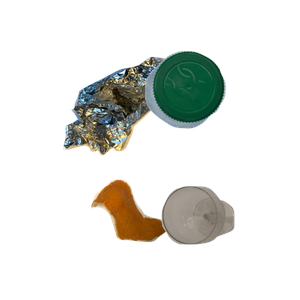glass: (159, 184, 300, 300)
metal: (61, 54, 225, 202)
plastic: (142, 48, 300, 169)
trash: (88, 177, 251, 300)
